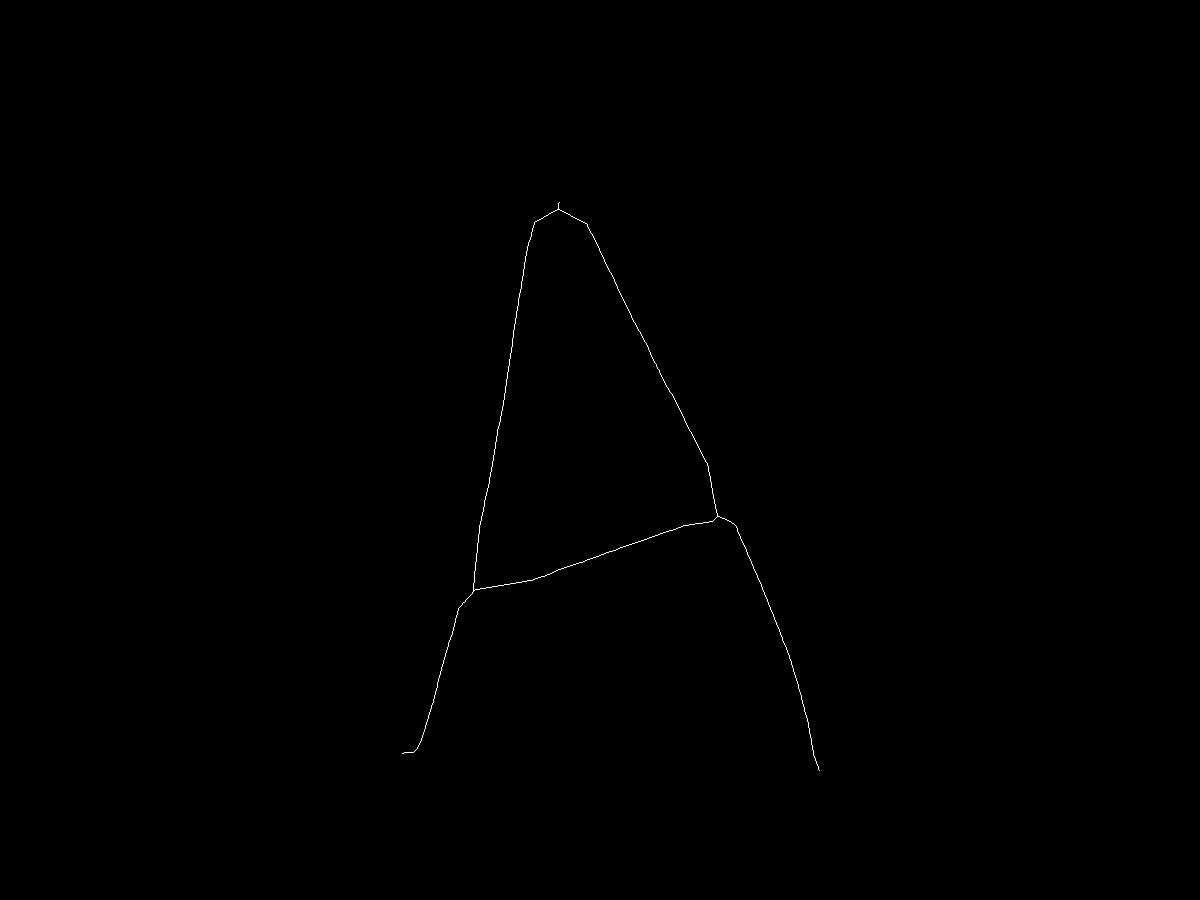dian1: (553, 205, 564, 216)
dian2: (468, 580, 483, 595)
dian3: (400, 744, 415, 759)
dian4: (711, 510, 729, 528)
dian5: (811, 768, 827, 784)
